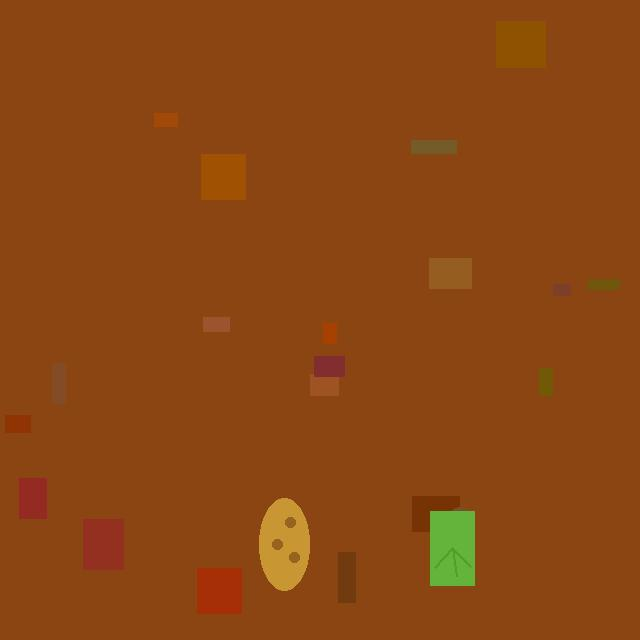damaged_crop: (259, 498, 309, 590)
pest_damage: (446, 504, 480, 578)
weed: (430, 510, 474, 586)
